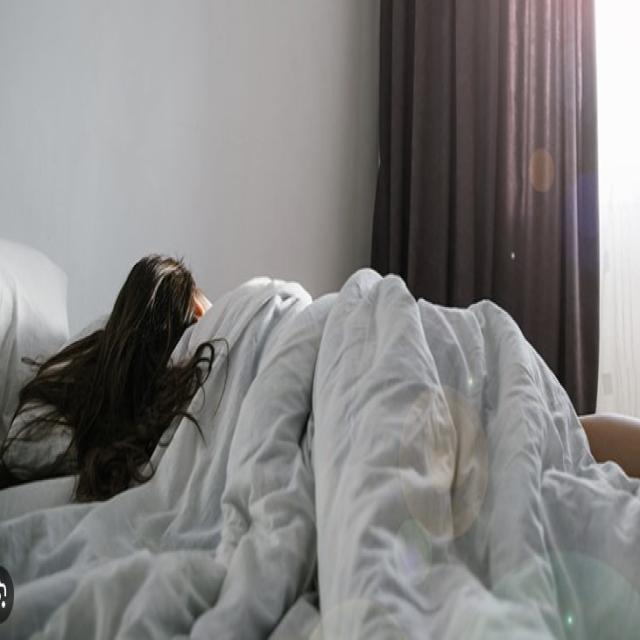sleeping-person: (10, 234, 640, 638)
